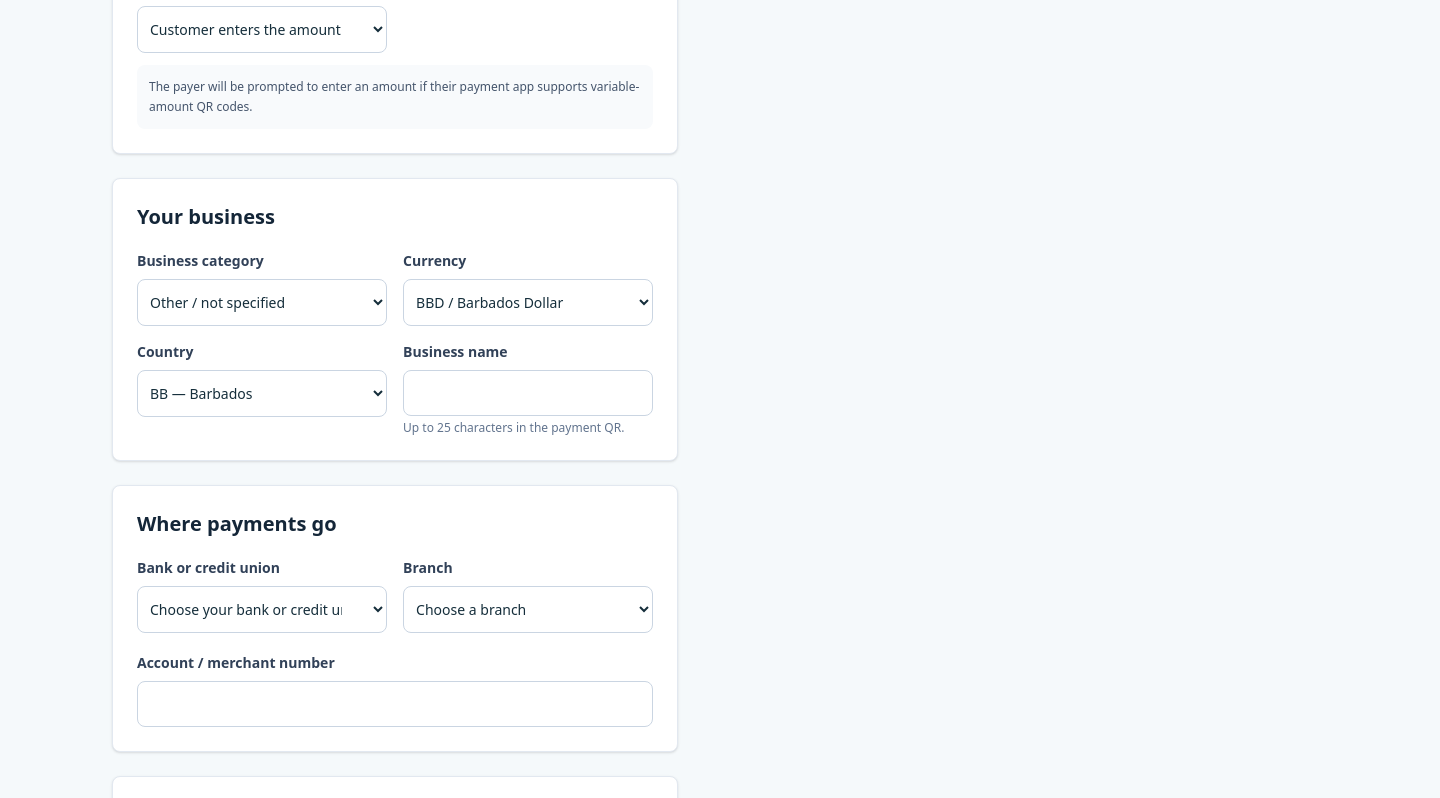
it: workspace application integration › clear invalidates pending generations, including late errors
(page scrolled)
In the field labelled "Business name Up to 25 characters in the payment QR.": x=528, y=393 x1=403 y1=370 x2=653 y2=416, type "EXAMPLE SHOP"
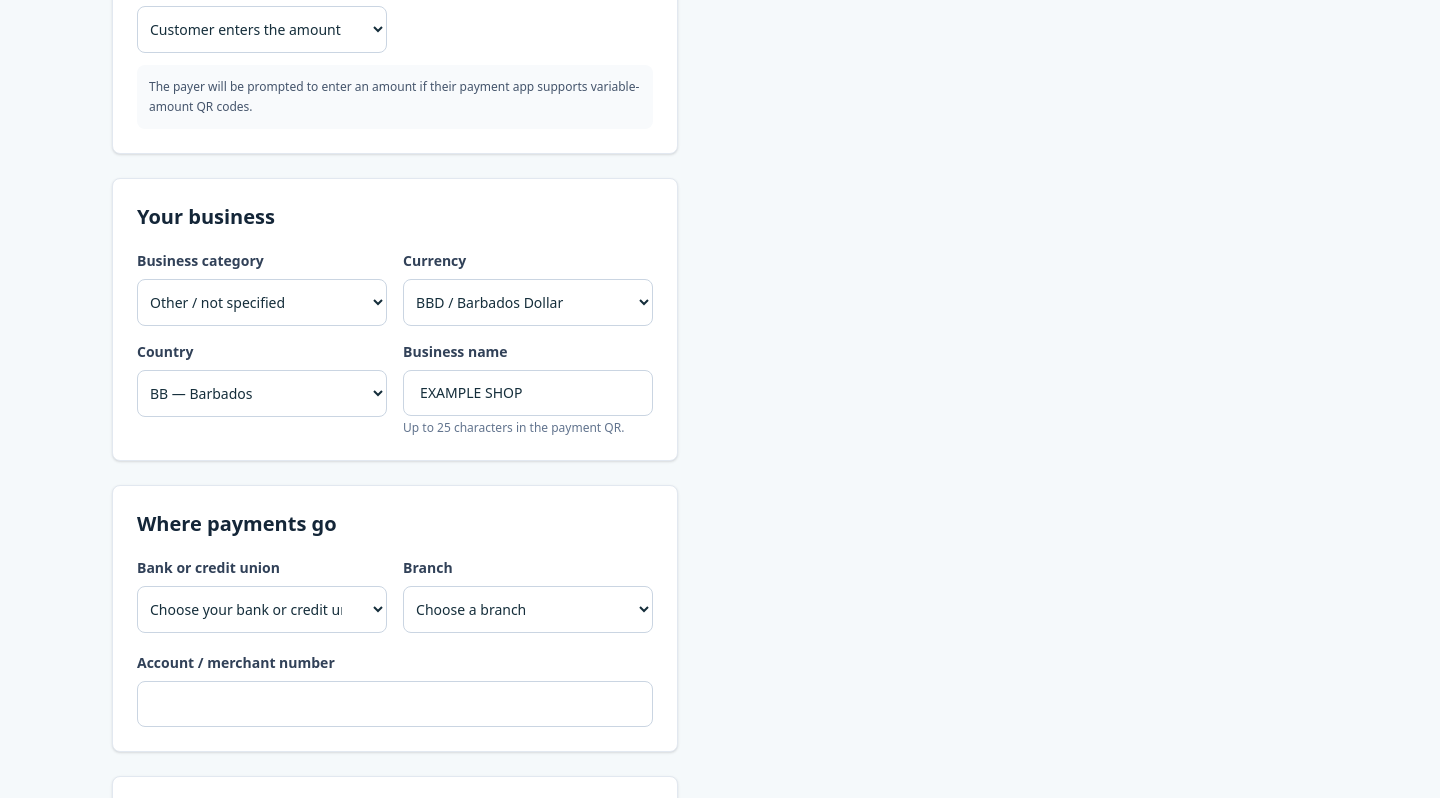
Select "AFFINITY PLUS CREDIT UNION LTD" in the dropdown labelled "Bank or credit union": x=262, y=609 x1=137 y1=586 x2=387 y2=633
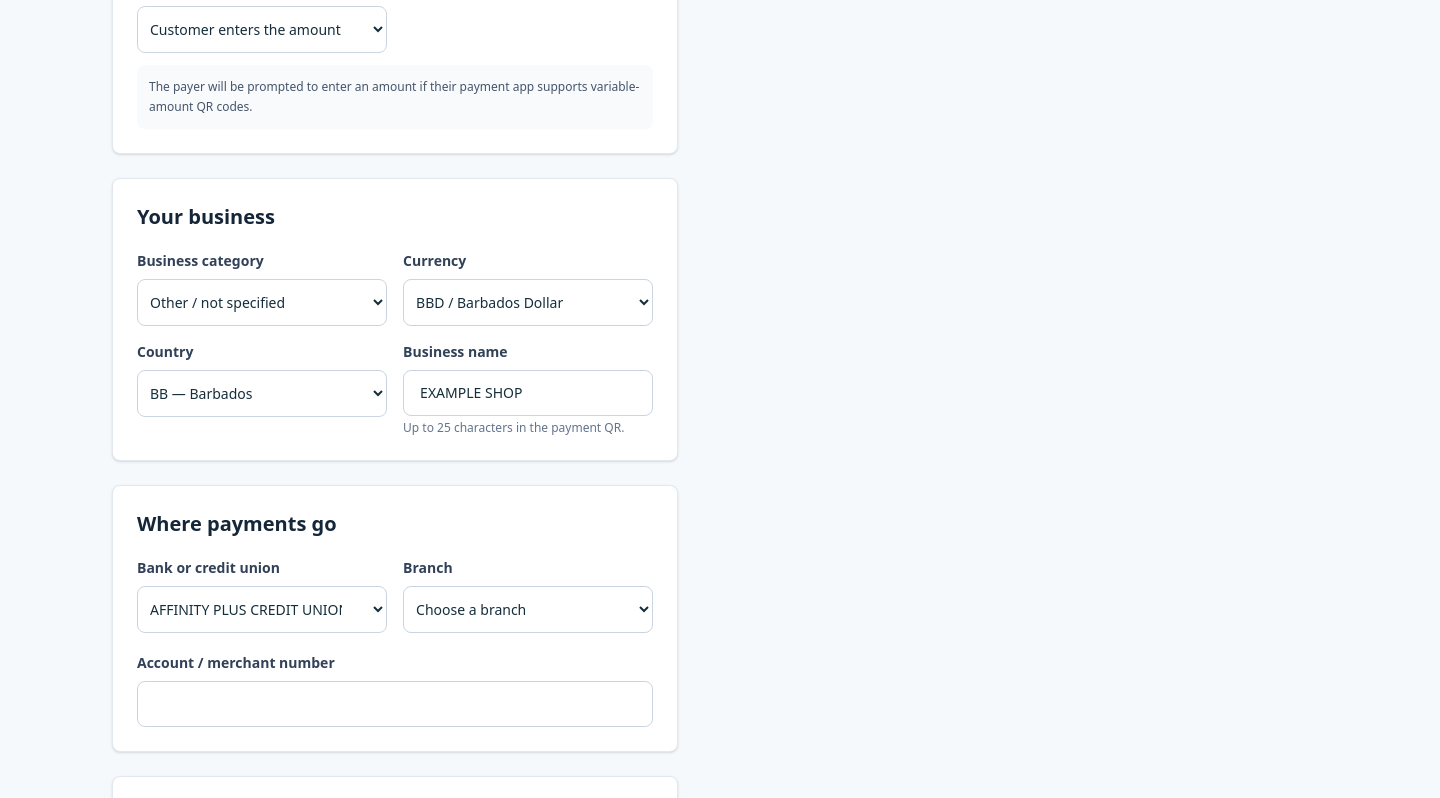
Select "AFFINITY PLUS" in the dropdown labelled "Branch": x=528, y=609 x1=403 y1=586 x2=653 y2=633
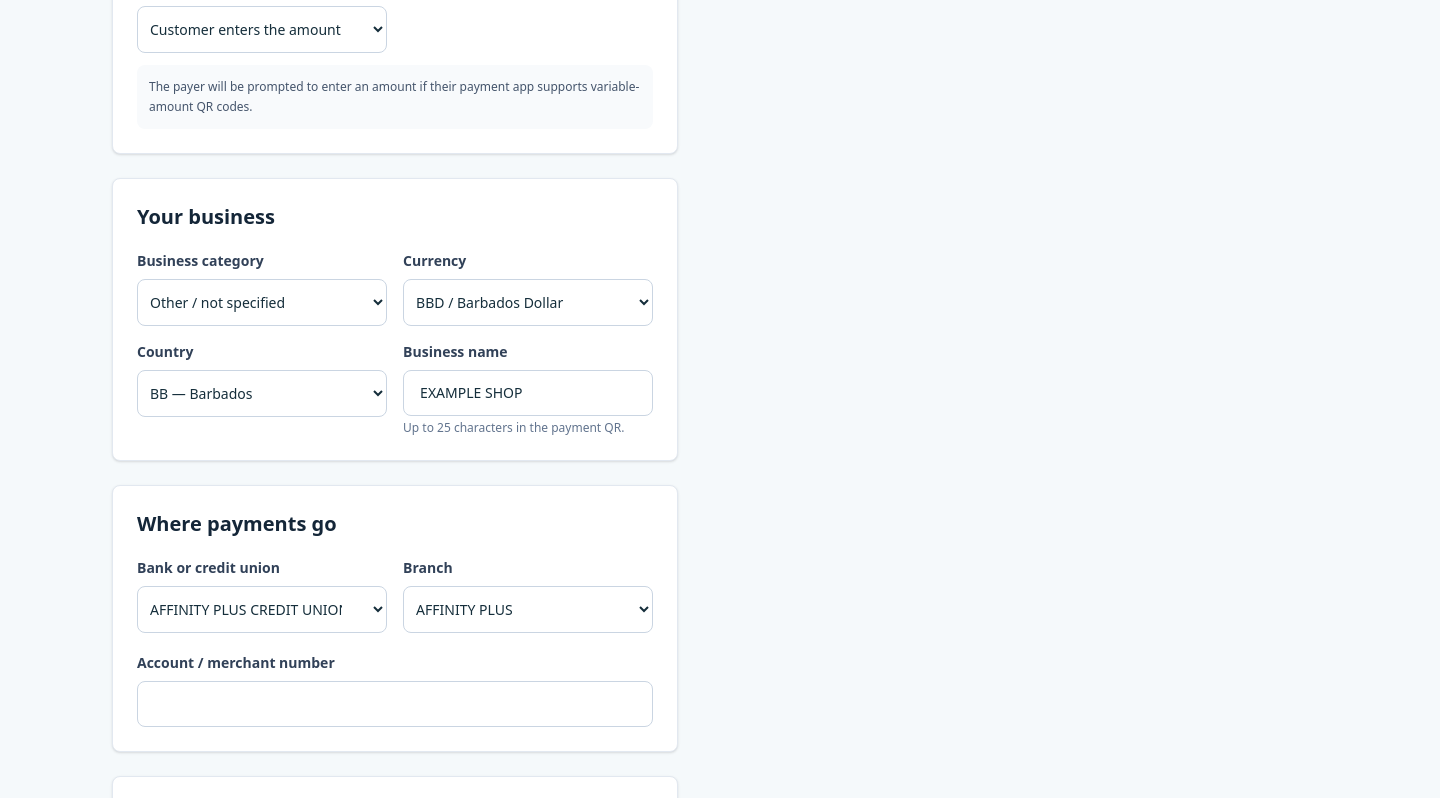
In the field labelled "Account / merchant number": x=395, y=704 x1=137 y1=681 x2=653 y2=727, type "00123"
(page scrolled)
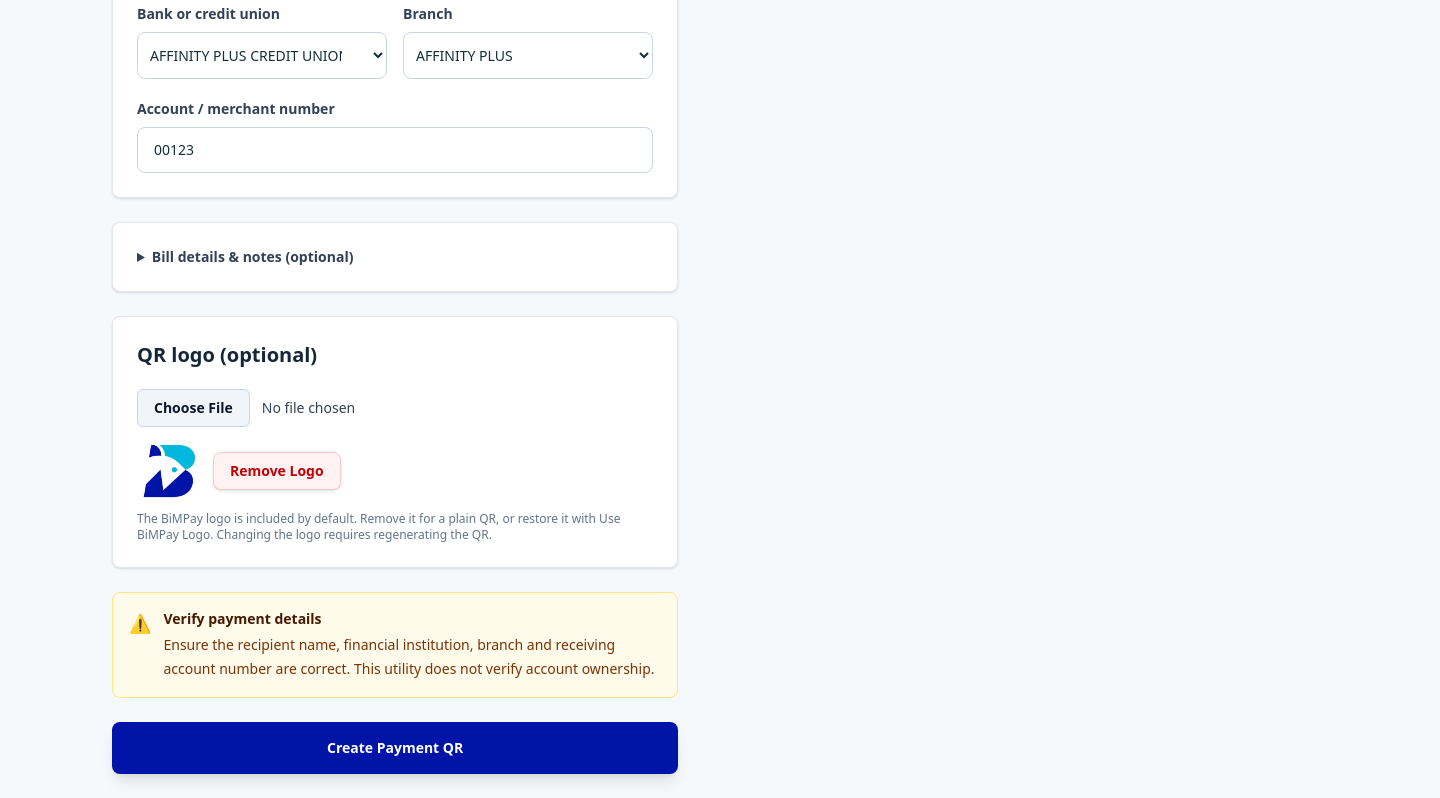
Click the button "Create Payment QR": x=395, y=748 x1=112 y1=722 x2=678 y2=774
(page scrolled)
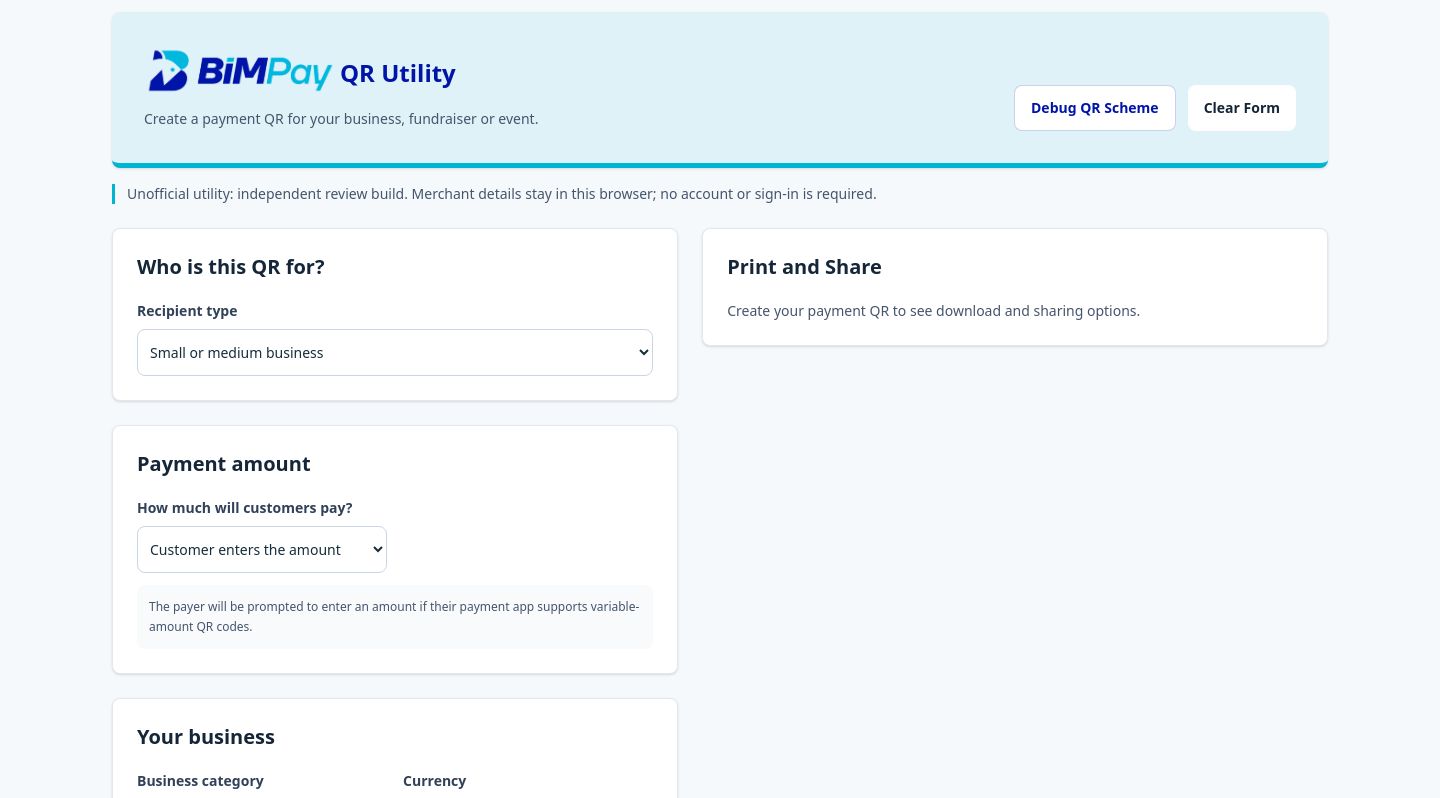
Click the button "Clear Form": x=1242, y=108 x1=1188 y1=85 x2=1296 y2=131
(page scrolled)
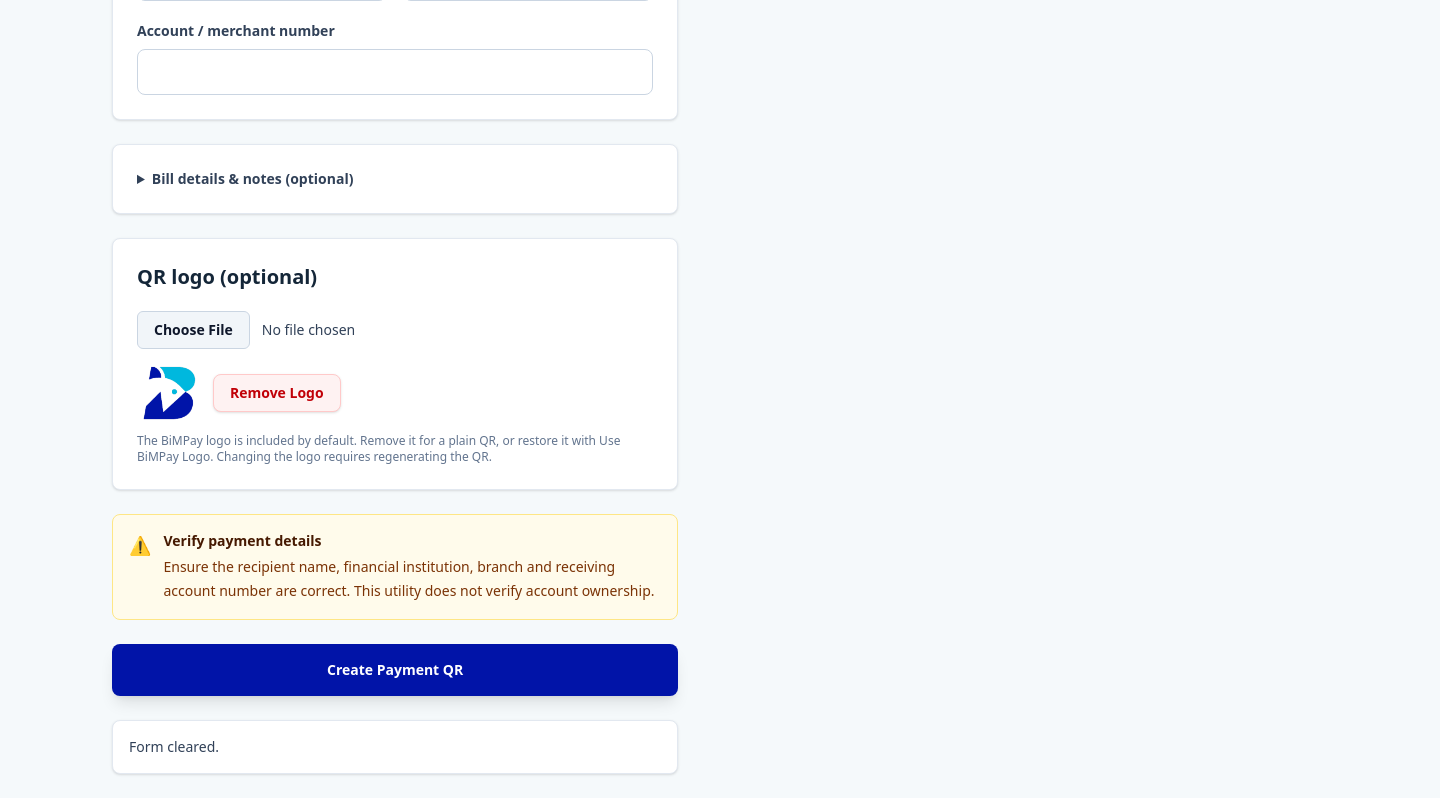
Now the text "Form cleared." is shown, box x1=112 y1=720 x2=678 y2=774
